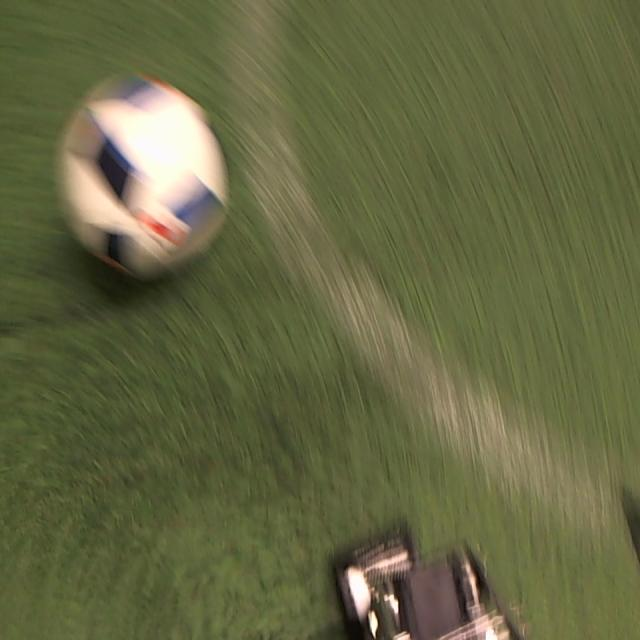ball: (56, 74, 233, 277)
